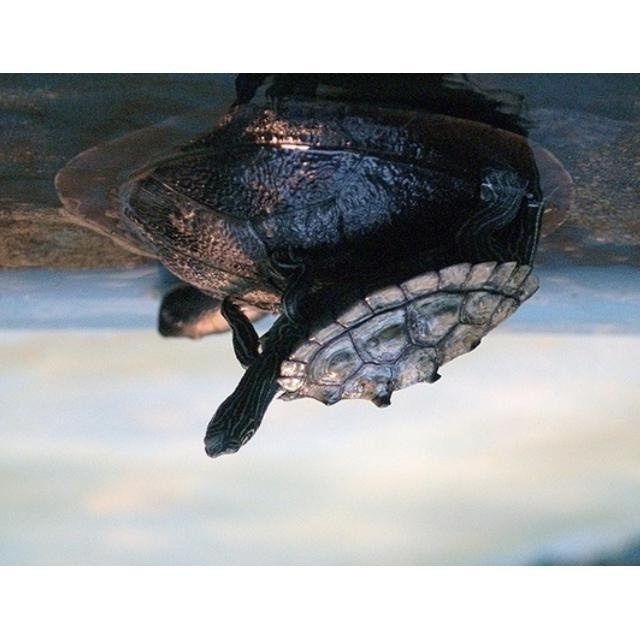turtle: (120, 97, 544, 460)
